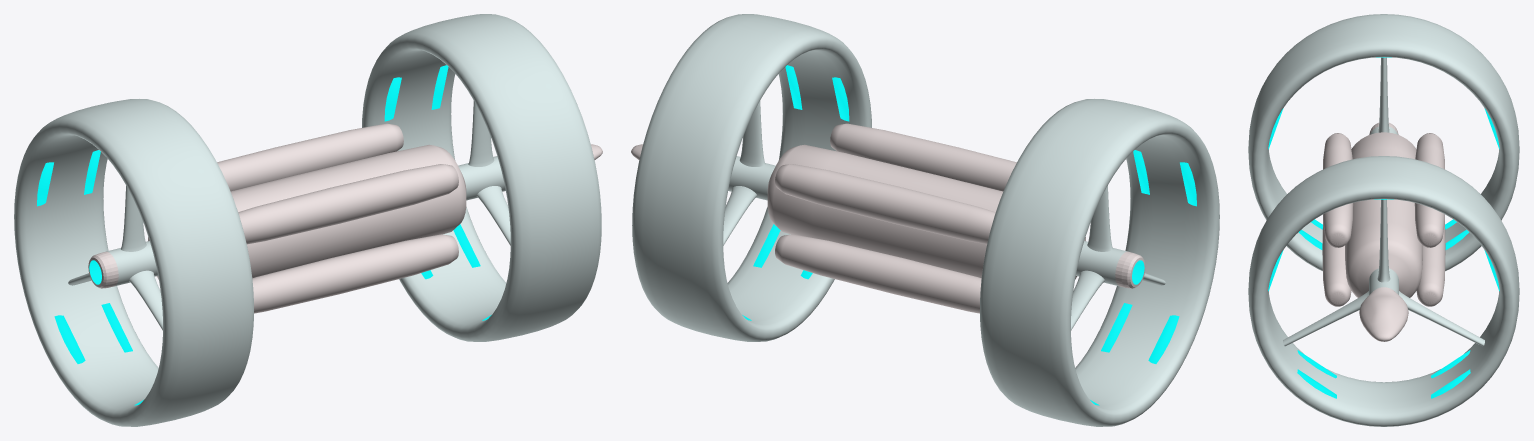
Rendered from spaceship_V2.glb.
3 views of the same model, side by side, from view 1: azimuth 30°, elevation 25°; view 2: azimuth 150°, elevation 25°; view 3: azimuth 270°, elevation 25° (orthographic). The views are drawn at different scales.
Visible parts, largest first — view 1: rotorBack, rotorFront, spaceship, rotorBack_light, rotorFront_light; view 2: rotorBack, rotorFront, spaceship, rotorBack_light, rotorFront_light; view 3: rotorFront, rotorBack, spaceship, rotorFront_light, rotorBack_light.
Part boxes in pixels (bbox=[...]): rotorBack: bbox=[14, 99, 253, 426]; rotorFront: bbox=[362, 14, 601, 341]; spaceship: bbox=[88, 123, 602, 313]; rotorBack_light: bbox=[37, 150, 143, 405]; rotorFront_light: bbox=[384, 65, 491, 320]; rotorBack: bbox=[979, 99, 1219, 426]; rotorFront: bbox=[632, 14, 871, 341]; spaceship: bbox=[631, 123, 1145, 313]; rotorBack_light: bbox=[1090, 150, 1196, 405]; rotorFront_light: bbox=[742, 65, 849, 320]; rotorFront: bbox=[1248, 156, 1519, 426]; rotorBack: bbox=[1248, 14, 1519, 271]; spaceship: bbox=[1322, 122, 1445, 341]; rotorFront_light: bbox=[1268, 199, 1499, 398]; rotorBack_light: bbox=[1268, 57, 1499, 249].
Size of the model in its own units: 51.03 by 28.04 by 28.04.
